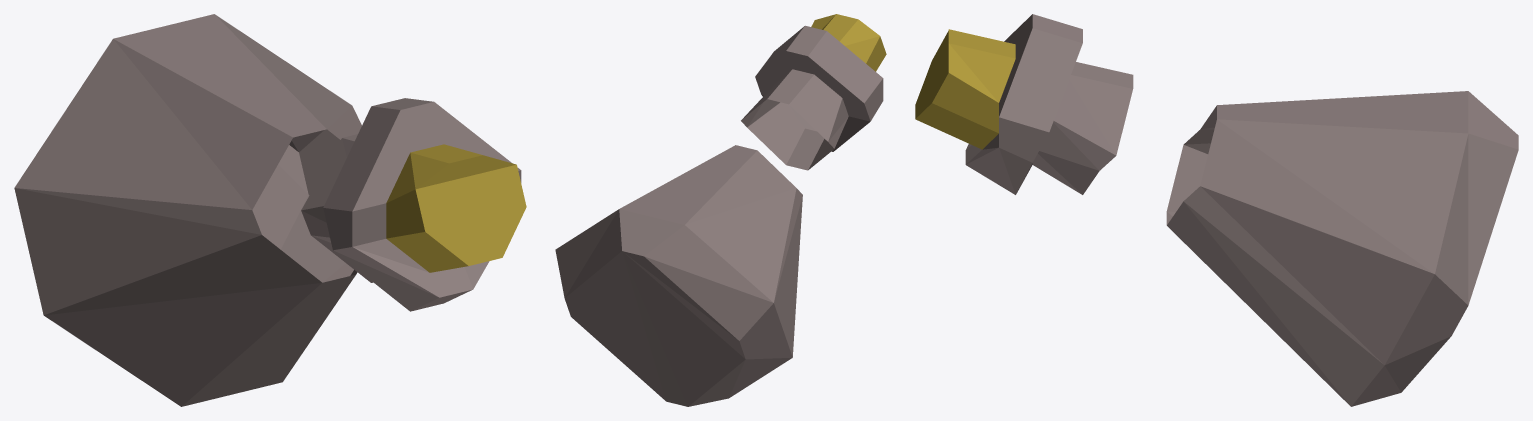
Rendered from model_3150_spotanim.obj.
The picture shows the model from 3 angles, left to right: view 1: azimuth 30°, elevation 25°; view 2: azimuth 150°, elevation 25°; view 3: azimuth 270°, elevation 25°; orthographic projection. The views are drawn at different scales.
Visible parts, largest first — view 1: 3150; view 2: 3150; view 3: 3150.
Boxes of the visible parts, x1,y1,x2,y2 form: 3150: (14,14,526,406); 3150: (555,14,886,406); 3150: (915,14,1518,406).
Size of the model in its own units: 20 by 24 by 36.
